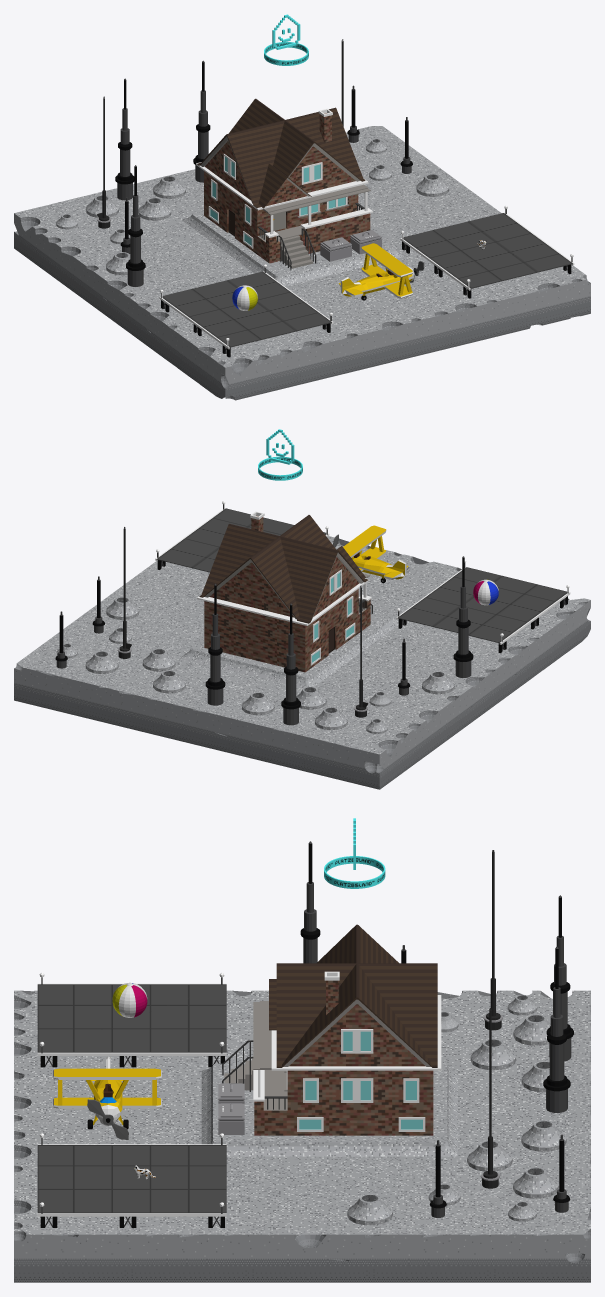
3 views of the same model, one above another, from view 1: azimuth 30°, elevation 25°; view 2: azimuth 150°, elevation 25°; view 3: azimuth 270°, elevation 25° (orthographic). The views are drawn at different scales.
Parts seen in each view (by area): view 1: Cube.027, Cube.117, Cube.026, Cube.025, Cube.028, VEHICLES_AIRPLANE, Cylinder.021, Cylinder.020, Cylinder.017, TYPE_PREMIUM, Cube.029, Cylinder.026 (+3 smaller); view 2: Cube.027, Cube.117, Cube.025, Cube.028, Cube.026, VEHICLES_AIRPLANE, Cylinder.017, Cylinder.021, Cylinder.020, TYPE_PREMIUM, Cylinder.030, Cylinder.029 (+8 smaller); view 3: Cube.027, Cube.117, Cube.026, Cube.025, Cube.028, VEHICLES_AIRPLANE, Cylinder.017, Cylinder.020, Cylinder.021, TYPE_PREMIUM, Cylinder.033, Cylinder.031 (+11 smaller).
Part boxes in pixels (x1,y1,x2,y2): Cube.027: (14,126,590,400); Cube.117: (196,98,372,269); Cube.026: (400,205,574,298); Cube.025: (159,264,333,357); Cube.028: (182,211,403,286); VEHICLES_AIRPLANE: (338,243,424,300); Cylinder.021: (126,165,145,286); Cylinder.020: (115,78,134,200); Cylinder.017: (193,60,210,182); TYPE_PREMIUM: (264,14,308,65); Cube.029: (320,237,351,261); Cylinder.026: (138,197,171,220); Cube.027: (14,536,590,789); Cube.117: (197,511,372,672); Cube.025: (396,560,570,653); Cube.028: (181,610,398,688); Cube.026: (155,501,329,572); VEHICLES_AIRPLANE: (333,525,408,583); Cylinder.017: (205,583,225,705); Cylinder.021: (453,556,473,677); Cylinder.020: (281,603,300,725); TYPE_PREMIUM: (258,429,302,480); Cylinder.030: (142,648,175,671); Cylinder.029: (153,670,185,693); Cube.027: (14,990,590,1282); Cube.117: (222,924,441,1135); Cube.026: (37,1133,226,1227); Cube.025: (37,973,226,1067); Cube.028: (201,1063,457,1156); VEHICLES_AIRPLANE: (53,1056,161,1139); Cylinder.017: (543,946,570,1112); Cylinder.020: (546,895,573,1061); Cylinder.021: (300,841,320,963); TYPE_PREMIUM: (324,818,385,888); Cylinder.033: (347,1194,392,1225); Cylinder.031: (513,1167,558,1198).
Bounding box in the file's own units: 4000 × 2703 × 4000.
Materials: 46 (6 with a texture image).
